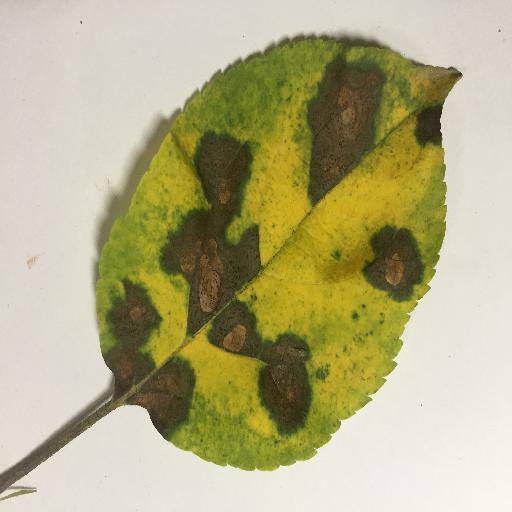Brown_Spot: (241, 341, 308, 432), (316, 75, 371, 176), (103, 285, 156, 387), (167, 239, 241, 309), (188, 134, 238, 220), (362, 241, 428, 298), (135, 376, 189, 435), (222, 308, 264, 356), (414, 100, 450, 147)
